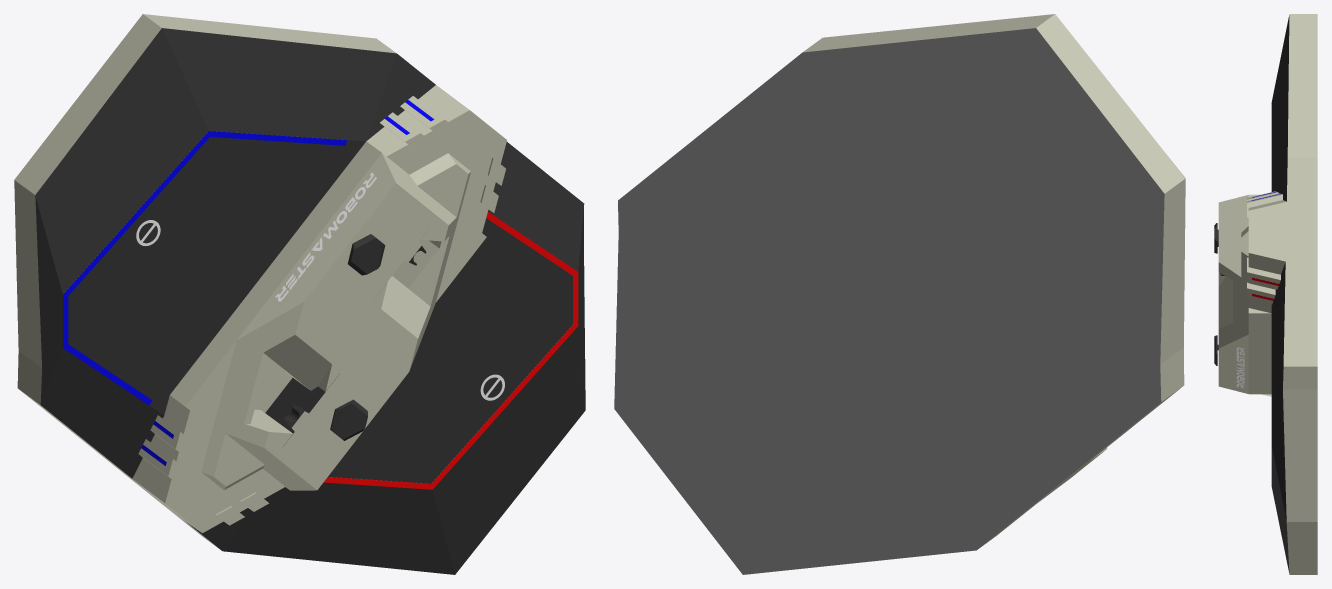
The model's file is centre-platform.glb.
The picture shows the model from 3 angles, left to right: view 1: azimuth 30°, elevation 25°; view 2: azimuth 150°, elevation 25°; view 3: azimuth 270°, elevation 25°; orthographic projection. The views are drawn at different scales.
Parts seen in each view (by area): view 1: source_13267333_0006_1_1; view 2: source_13267333_0006_1_1; view 3: source_13267333_0006_1_1.
Part boxes in pixels (x1,y1,x2,y2): source_13267333_0006_1_1: [14, 14, 585, 574]; source_13267333_0006_1_1: [614, 14, 1185, 574]; source_13267333_0006_1_1: [1214, 14, 1317, 574].
Bounding box in the file's own units: 4.08 × 4.38 × 0.9005.
